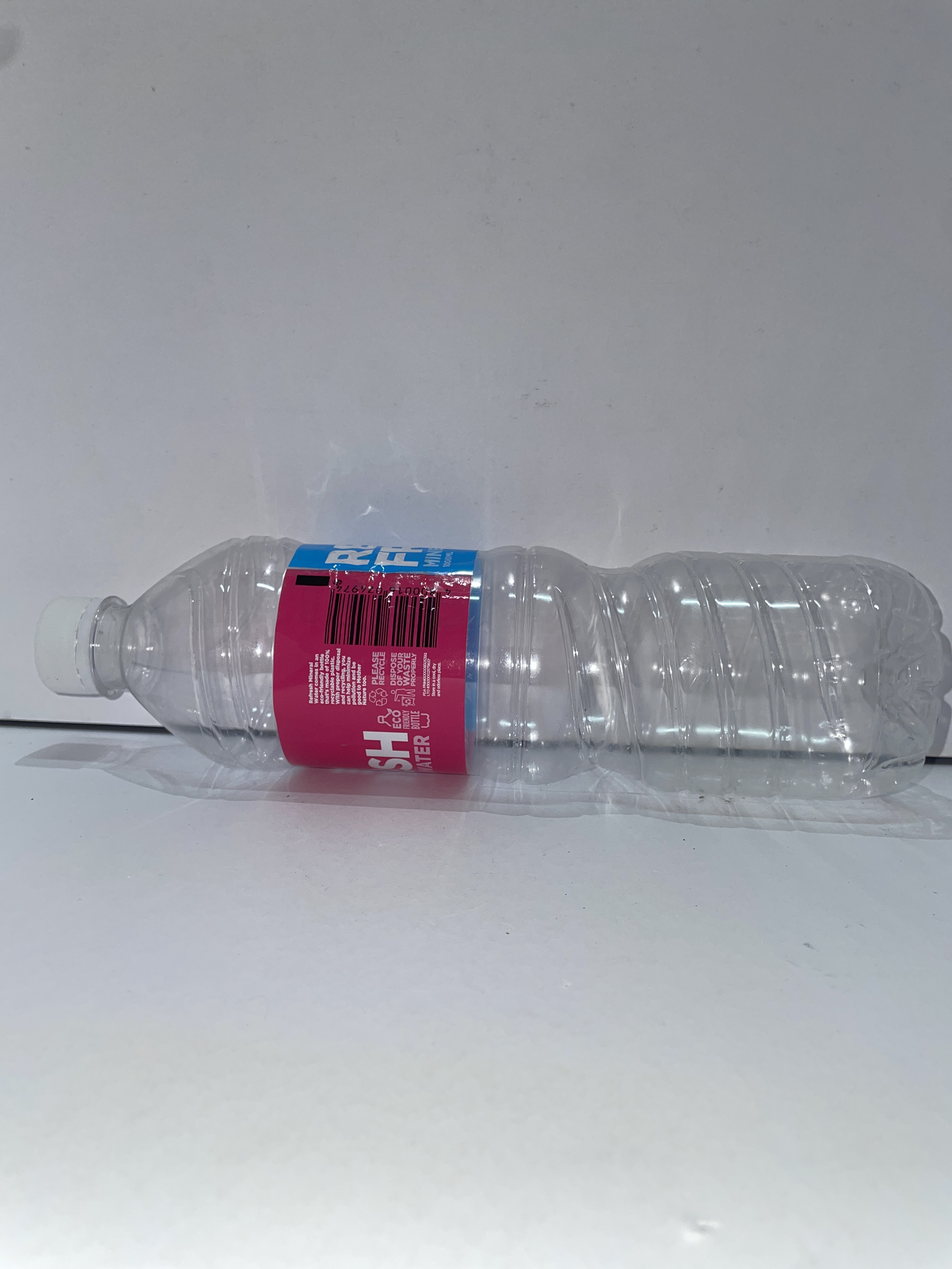Refresh 1000ml: (36, 538, 944, 798)
